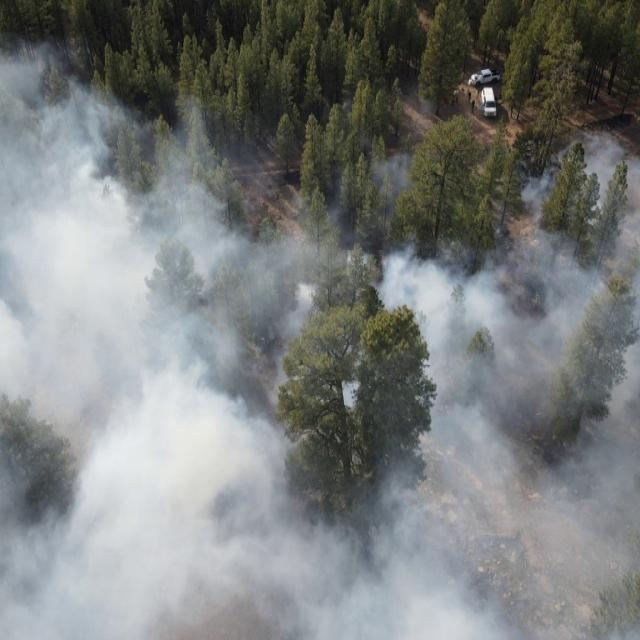smoke: (173, 132, 640, 640), (0, 46, 83, 640), (82, 87, 130, 640), (130, 109, 172, 640), (174, 96, 208, 130)
